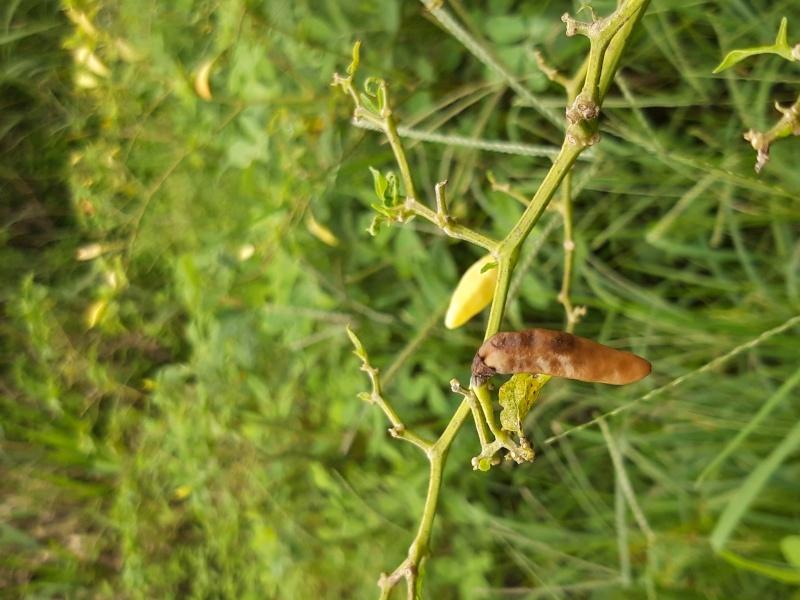cabai_normal: (443, 252, 511, 328)
lalat_buah: (478, 329, 651, 384)
